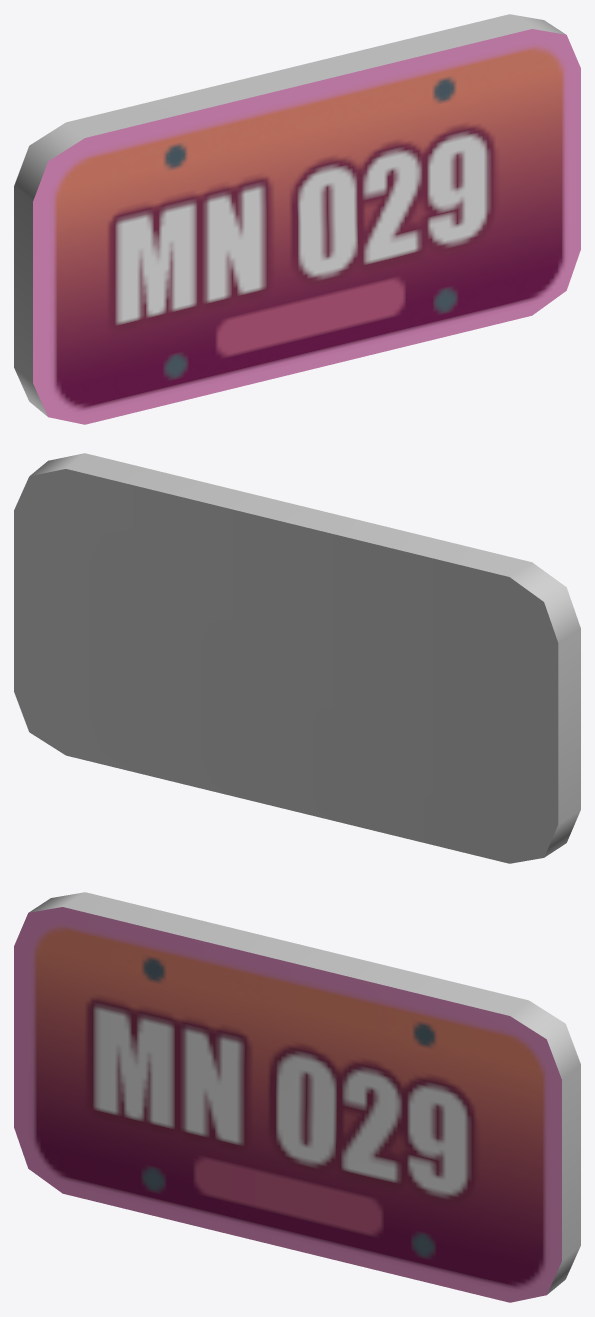
Rendered from Car_Number_04.fbx.
The picture shows the model from 3 angles, top to bottom: view 1: azimuth 30°, elevation 25°; view 2: azimuth 150°, elevation 25°; view 3: azimuth 330°, elevation 25°; orthographic projection.
Parts seen in each view (by area): view 1: Car_Number_04; view 2: Car_Number_04; view 3: Car_Number_04.
Part boxes in pixels (left/top/right/bottom): Car_Number_04: left=14, top=14, right=580, bottom=424; Car_Number_04: left=14, top=453, right=580, bottom=863; Car_Number_04: left=14, top=892, right=580, bottom=1302.
Bounding box in the file's own units: 49.09 × 3.48 × 24.55.
